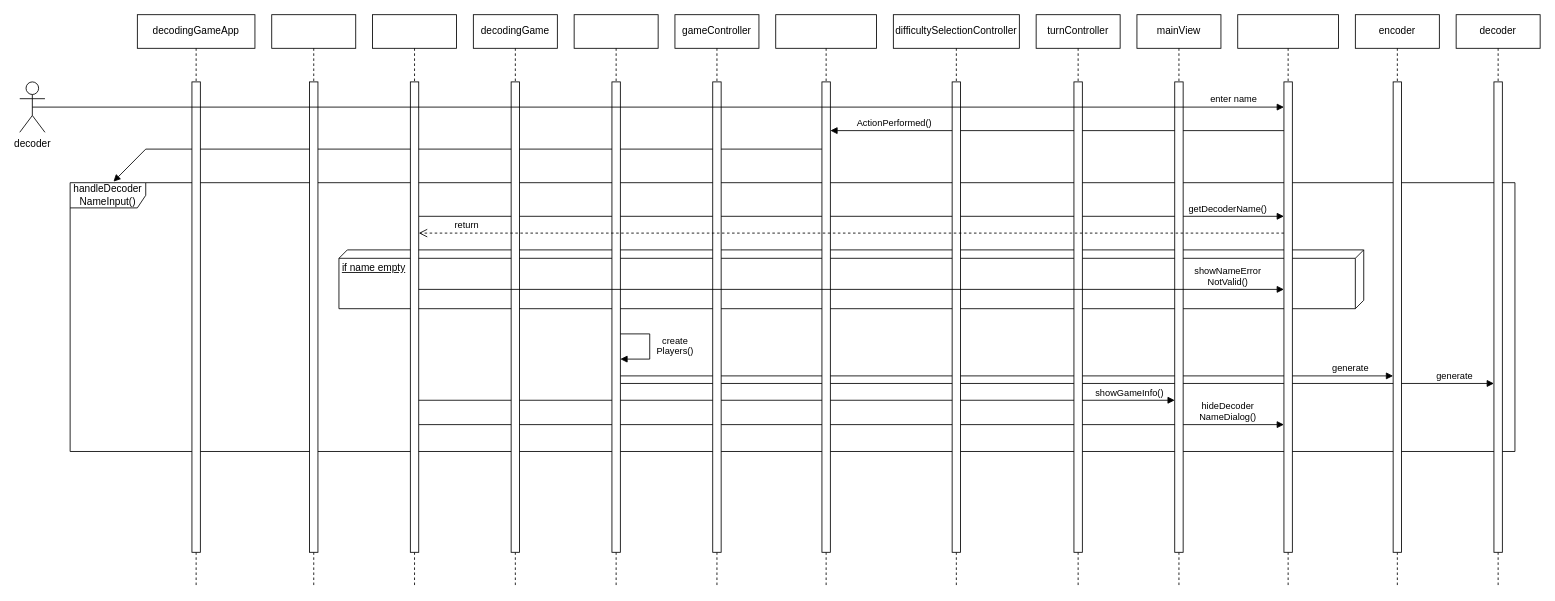
The diagram is 1555 pixels wide and 601 high, and some of its shapes have lost their labels. The box of each missing label's shape, as (x1, y1, x2, y2) in pixels:
decoderNameDialog: (1237, 14, 1339, 586)
gameFacade: (271, 14, 356, 586)
nameInsertController: (775, 14, 877, 586)
playerController: (573, 14, 658, 586)
viewFacade: (372, 14, 457, 586)
